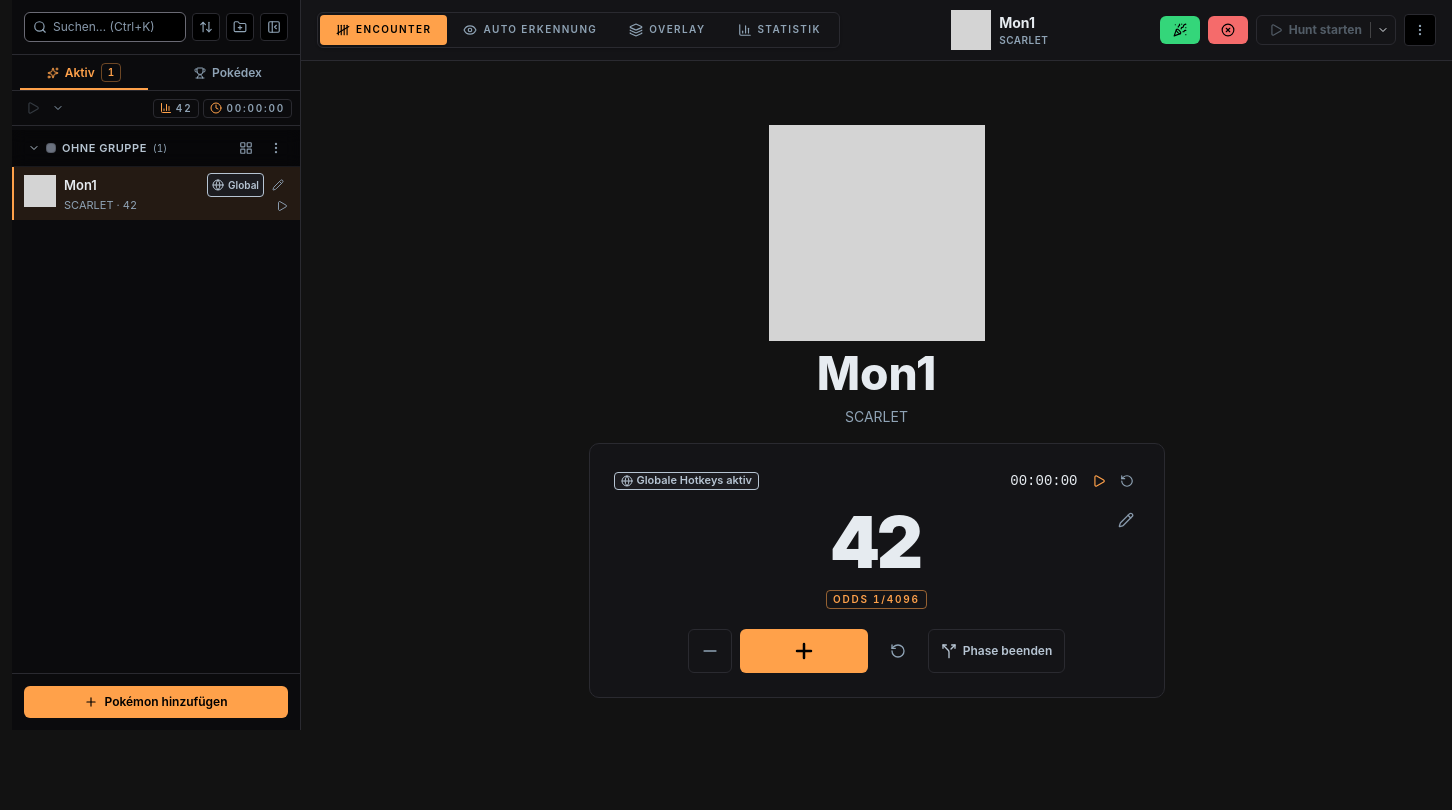
Dashboard › shows the caught empty state when the pokedex tab has no entries
Click the button "Pokédex" at (228, 73), box left=156, top=55, right=300, bottom=90
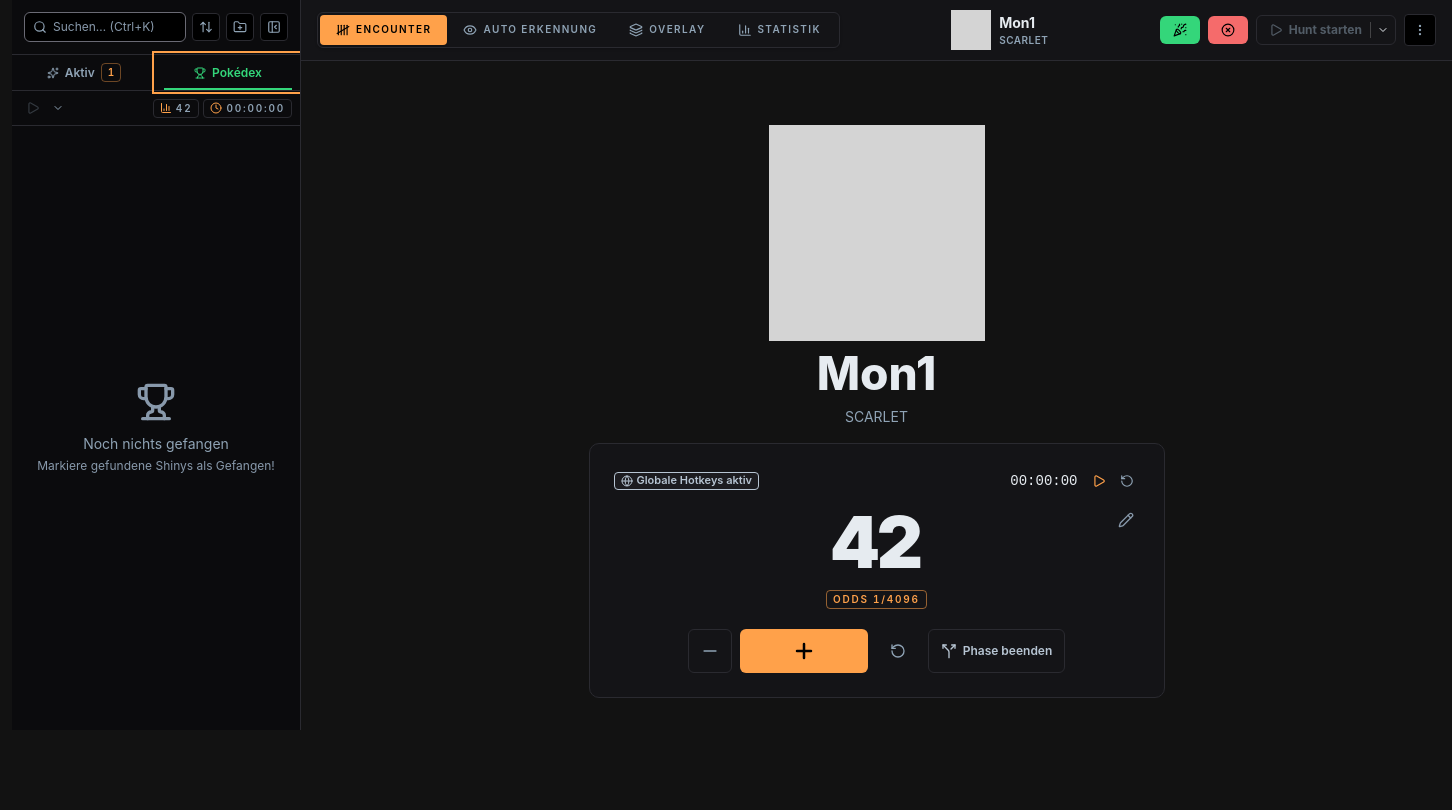
Now the text "Noch nichts gefangen" is shown, box left=83, top=434, right=229, bottom=454
Now the text "Markiere gefundene Shinys als Gefangen!" is shown, box left=37, top=458, right=275, bottom=474
